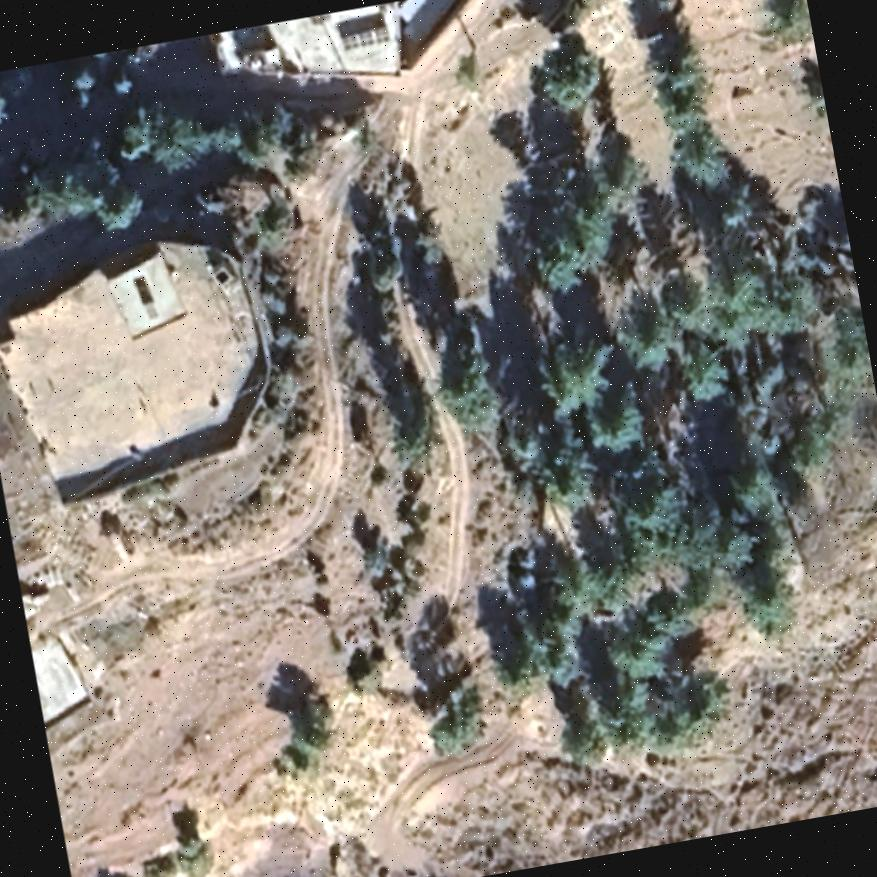Solarpanel: (335, 19, 395, 54), (141, 296, 162, 321)
